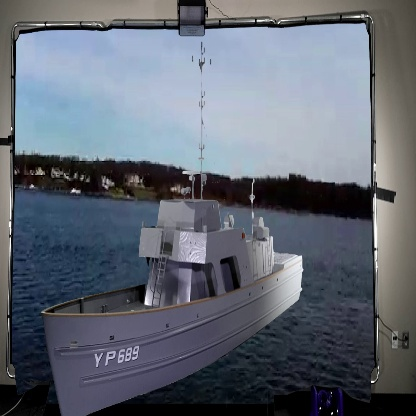YP689: (40, 33, 305, 416)
